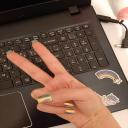PeaceSign: (4, 38, 106, 124)
